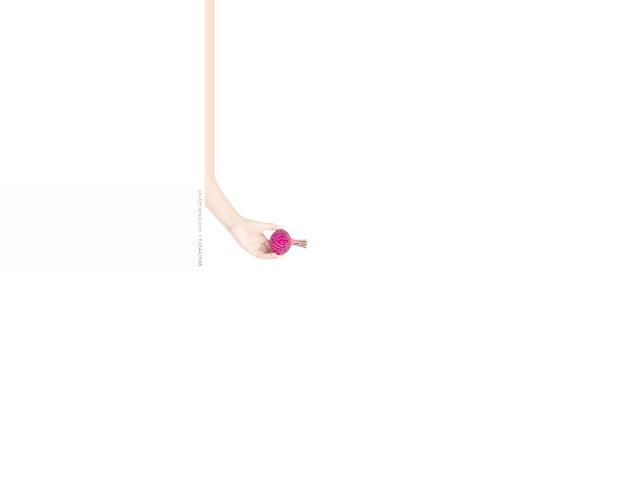beet: (269, 229, 307, 255)
